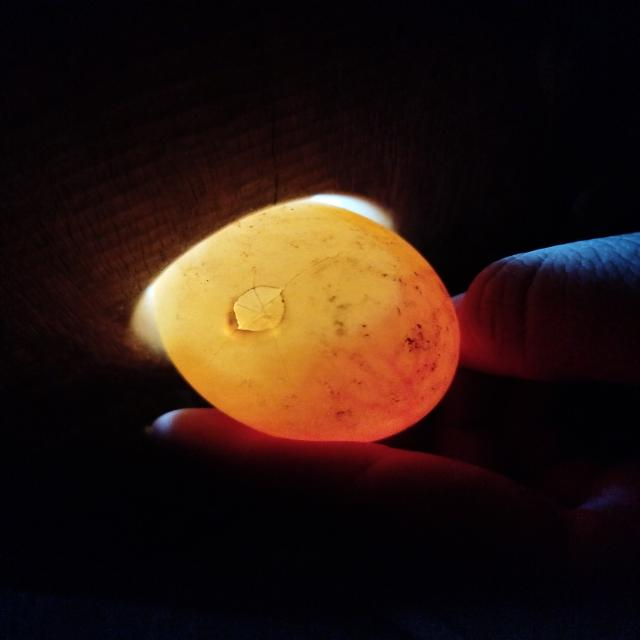Rachadura: (234, 286, 284, 332)
